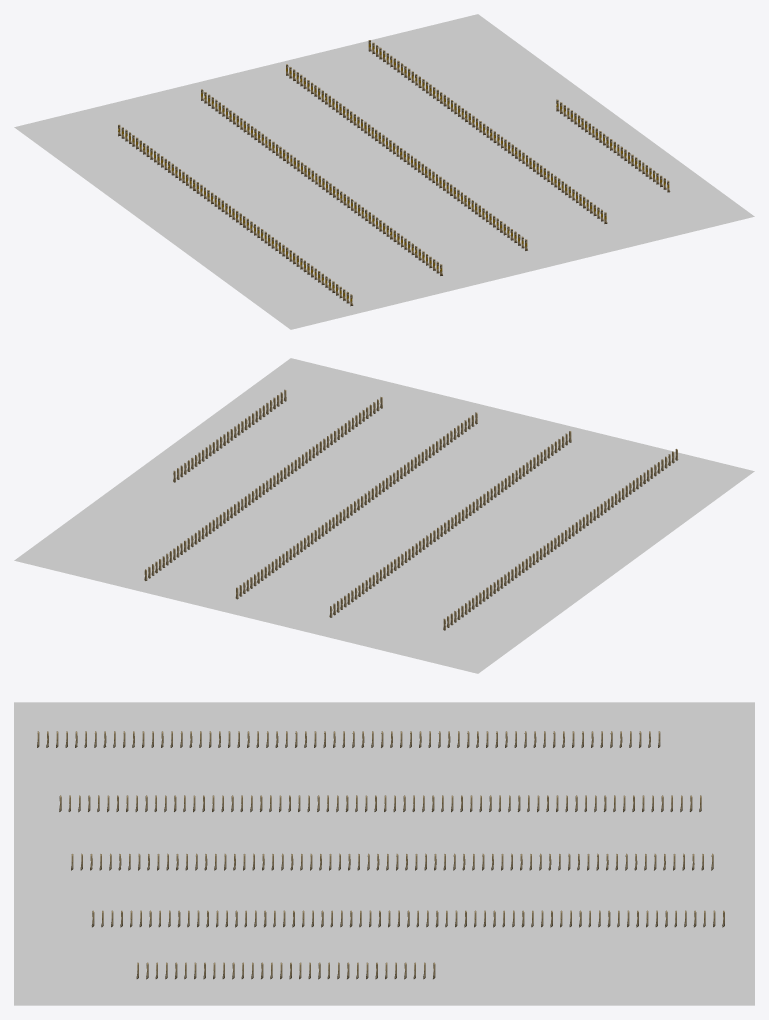
File: Plane_300_Assets.FBX
3 views of the same model, one above another, from view 1: azimuth 30°, elevation 25°; view 2: azimuth 150°, elevation 25°; view 3: azimuth 270°, elevation 25° (orthographic). The views are drawn at different scales.
Parts seen in each view (by area): view 1: Plane001; view 2: Plane001; view 3: Plane001.
Part boxes in pixels (x1,y1,x2,y2): Plane001: (14,14,754,329); Plane001: (14,358,754,673); Plane001: (14,702,754,1005).
Size of the model in its own units: 42939 by 1046 by 44370.
Materials: 1 (1 with a texture image).
